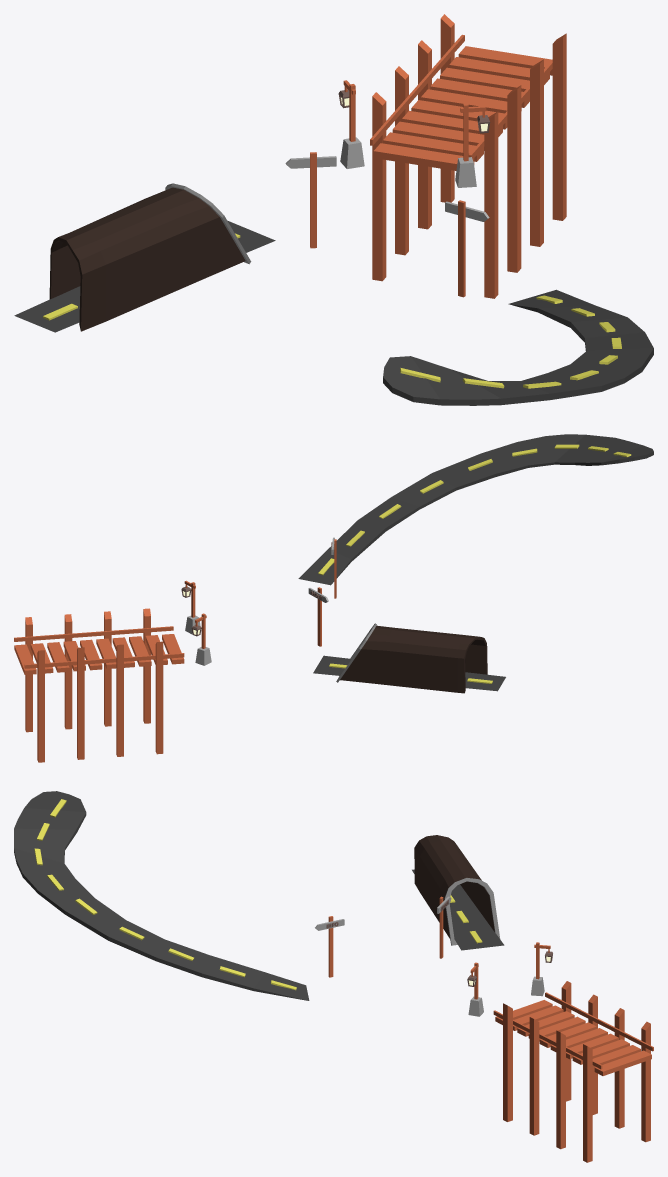
File: bridge.glb
3 views of the same model, one above another, from view 1: azimuth 30°, elevation 25°; view 2: azimuth 150°, elevation 25°; view 3: azimuth 270°, elevation 25° (orthographic). The views are drawn at different scales.
Visible parts, largest first — view 1: Plane.032, Cube, Vert.025, Plane.033, Cube.002, Plane.031, Cube.042, Cube.041, Plane.002, Plane.023, Cube.003; view 2: Vert.025, Cube, Plane.032, Plane.033, Plane.031, Cube.002, Cube.041; view 3: Vert.025, Plane.032, Plane.033, Cube, Cube.002, Plane.031, Cube.003.
Part boxes in pixels (left/top/right/bottom): Plane.032: left=372, top=14, right=566, bottom=298; Cube: left=49, top=187, right=245, bottom=331; Vert.025: left=383, top=289, right=653, bottom=405; Plane.033: left=373, top=46, right=552, bottom=170; Cube.002: left=14, top=220, right=275, bottom=332; Plane.031: left=370, top=34, right=552, bottom=159; Cube.042: left=455, top=103, right=490, bottom=187; Cube.041: left=338, top=80, right=364, bottom=168; Plane.002: left=458, top=200, right=465, bottom=297; Plane.023: left=310, top=152, right=316, bottom=248; Cube.003: left=165, top=183, right=251, bottom=264; Vert.025: left=298, top=434, right=653, bottom=585; Cube: left=340, top=625, right=487, bottom=693; Plane.032: left=25, top=608, right=163, bottom=762; Plane.033: left=14, top=634, right=184, bottom=674; Plane.031: left=14, top=626, right=184, bottom=668; Cube.002: left=313, top=655, right=505, bottom=691; Cube.041: left=191, top=613, right=211, bottom=665; Vert.025: left=14, top=791, right=309, bottom=1000; Plane.032: left=503, top=981, right=650, bottom=1162; Plane.033: left=495, top=1000, right=651, bottom=1075; Cube: left=414, top=835, right=494, bottom=938; Cube.002: left=412, top=869, right=504, bottom=950; Plane.031: left=493, top=992, right=653, bottom=1069; Cube.003: left=444, top=878, right=500, bottom=945.
Bounding box in the file's own units: 12.46 × 5.18 × 16.18.
